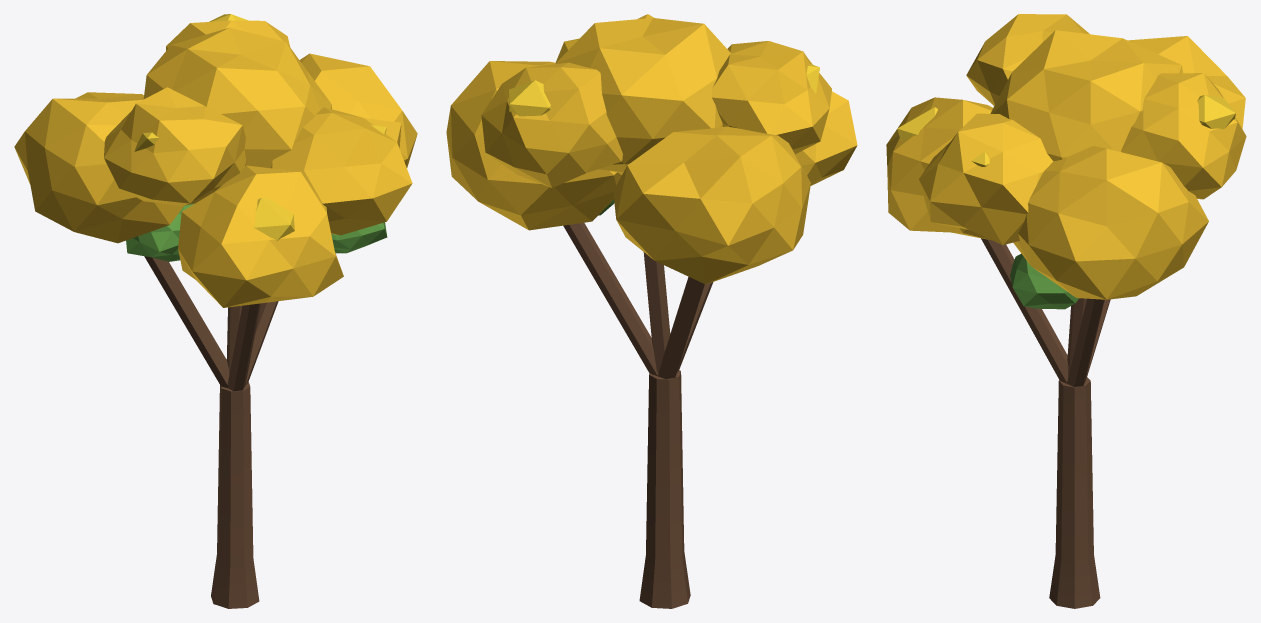
File: ipe_amarelo.glb
3 renders of one model, left to right at view 1: azimuth 30°, elevation 25°; view 2: azimuth 150°, elevation 25°; view 3: azimuth 270°, elevation 25°, orthographic. The views are drawn at different scales.
Visible parts, largest first — view 1: ipe_amarelo; view 2: ipe_amarelo; view 3: ipe_amarelo.
Part boxes in pixels (bbox=[...]): ipe_amarelo: bbox=[14, 14, 417, 608]; ipe_amarelo: bbox=[446, 14, 857, 608]; ipe_amarelo: bbox=[886, 14, 1246, 608].
Size of the model in its own units: 2.53 by 3.82 by 2.25.
